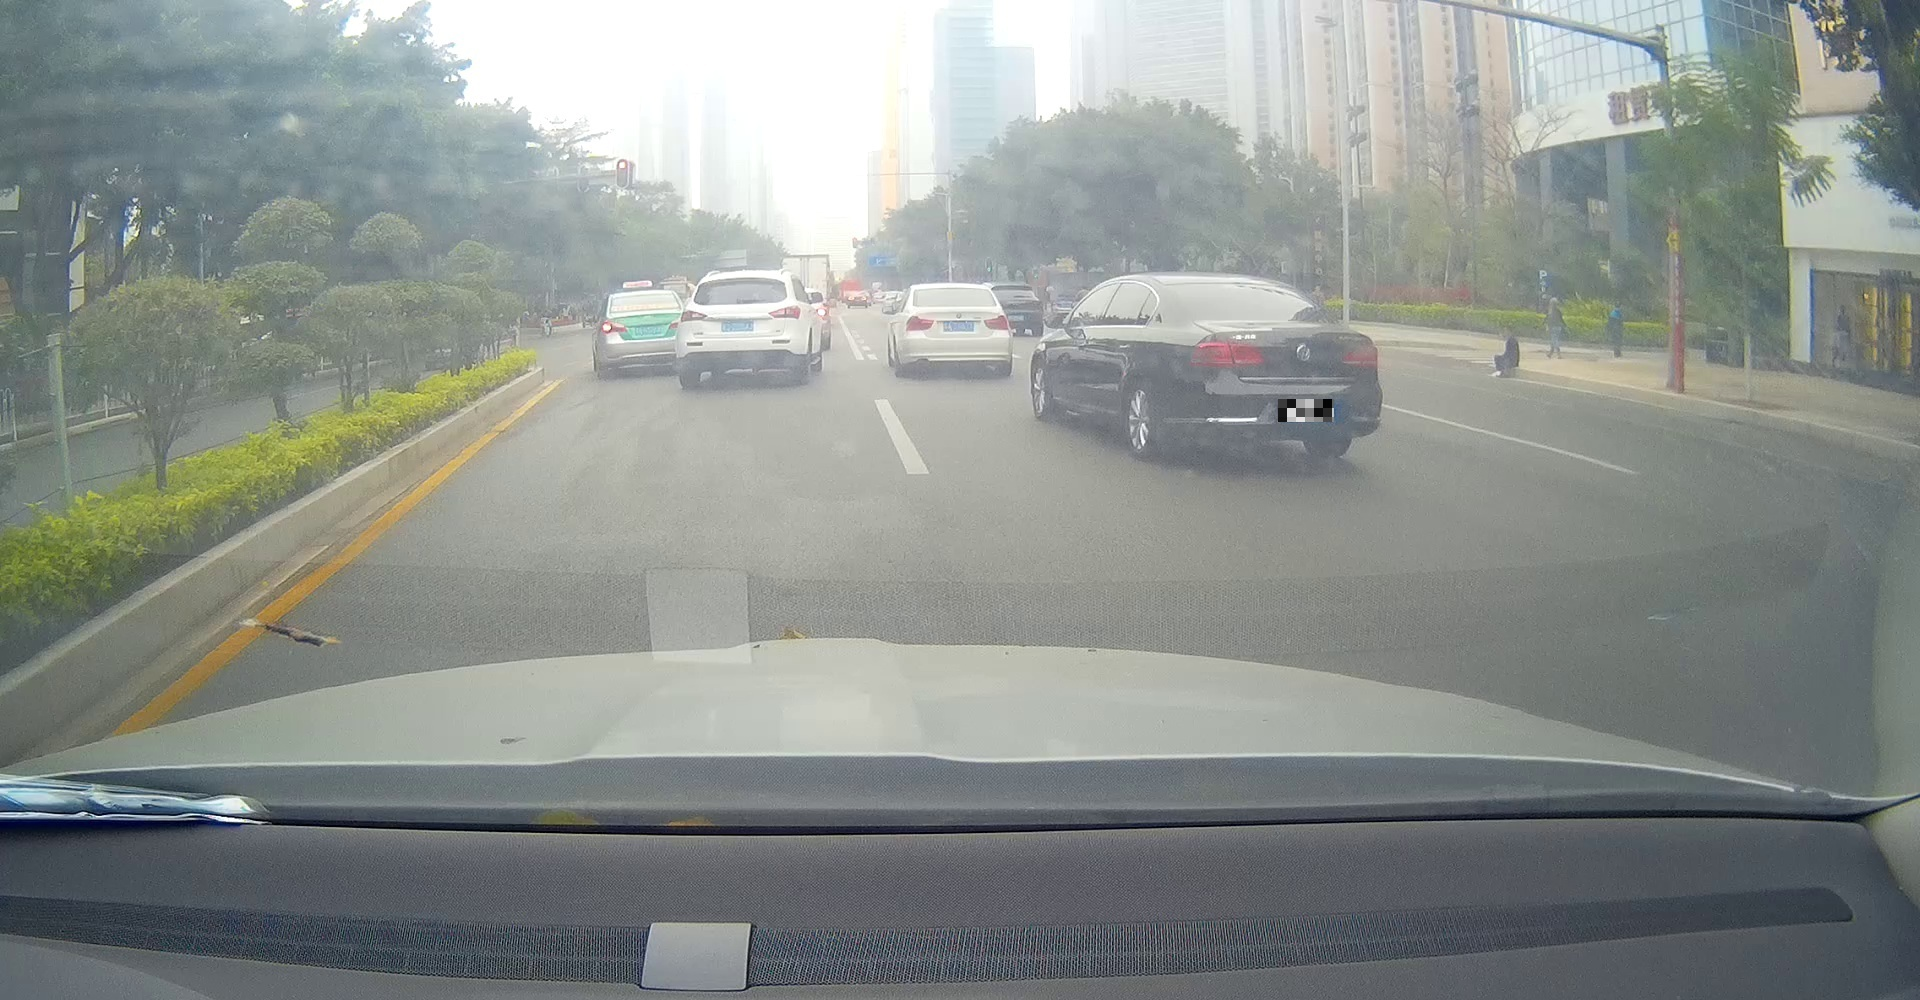L_light: (1186, 341, 1263, 365), (905, 315, 935, 332), (681, 308, 709, 322)
R_light: (1338, 346, 1378, 368), (767, 305, 801, 319), (983, 315, 1010, 331)
T_light: (1220, 283, 1255, 291), (943, 288, 960, 293), (731, 278, 747, 282)
day-no: (1158, 274, 1383, 463), (678, 270, 803, 388), (904, 283, 1013, 376)
plate_1: (1277, 398, 1335, 423)
